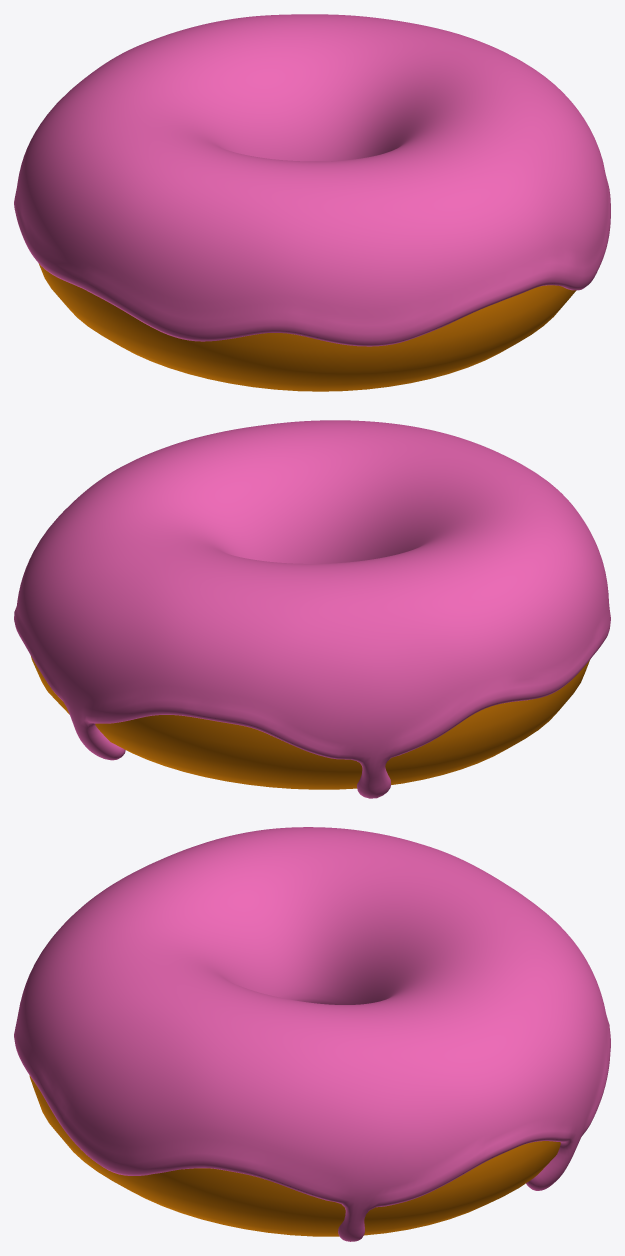
File: DougnutV4.glb
3 views of the same model, one above another, from view 1: azimuth 30°, elevation 25°; view 2: azimuth 150°, elevation 25°; view 3: azimuth 270°, elevation 25° (orthographic). The views are drawn at different scales.
Visible parts, largest first — view 1: Icing, Donut; view 2: Icing, Donut; view 3: Icing, Donut.
Boxes of the visible parts, x1,y1,x2,y2 form: Icing: (14, 14, 610, 346); Donut: (38, 263, 576, 391); Icing: (14, 420, 610, 798); Donut: (31, 656, 589, 789); Icing: (14, 827, 610, 1241); Donut: (29, 1075, 560, 1236).
Bounding box in the file's own units: 1.31 × 0.5321 × 1.29.
